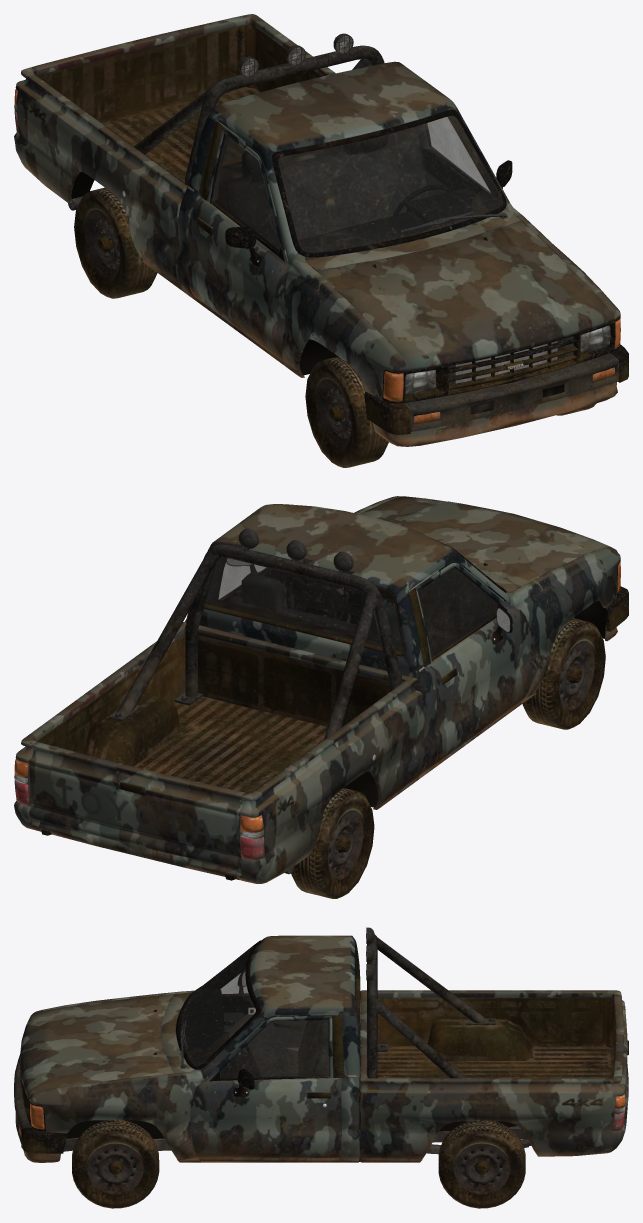
File: toyota-hilux-1983-set.glb
The picture shows the model from 3 angles, top to bottom: view 1: azimuth 30°, elevation 25°; view 2: azimuth 150°, elevation 25°; view 3: azimuth 270°, elevation 25°; orthographic projection. The views are drawn at different scales.
Visible parts, largest first — view 1: Toyota_Hilux_1983_2_08 - Default_0; view 2: Toyota_Hilux_1983_2_08 - Default_0; view 3: Toyota_Hilux_1983_2_08 - Default_0.
Boxes of the visible parts, x1,y1,x2,y2 form: Toyota_Hilux_1983_2_08 - Default_0: [14, 14, 628, 467]; Toyota_Hilux_1983_2_08 - Default_0: [14, 496, 628, 898]; Toyota_Hilux_1983_2_08 - Default_0: [14, 927, 628, 1208].
Size of the model in its own units: 2.12 by 1.92 by 4.96.
Materials: 1 (1 with a texture image).
